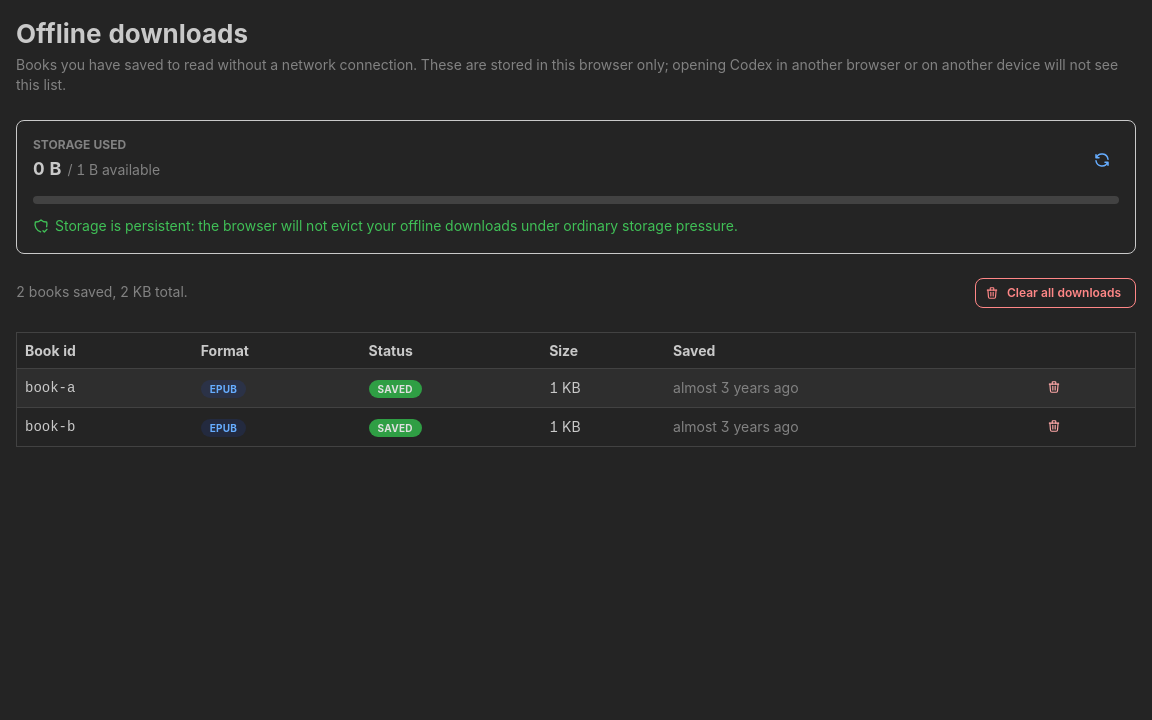
Test: DownloadsSettings: clear-all flow › Clear all asks for confirmation and then removes every record
Click the button "Clear all downloads" at (1055, 293), box [975,278,1136,308]
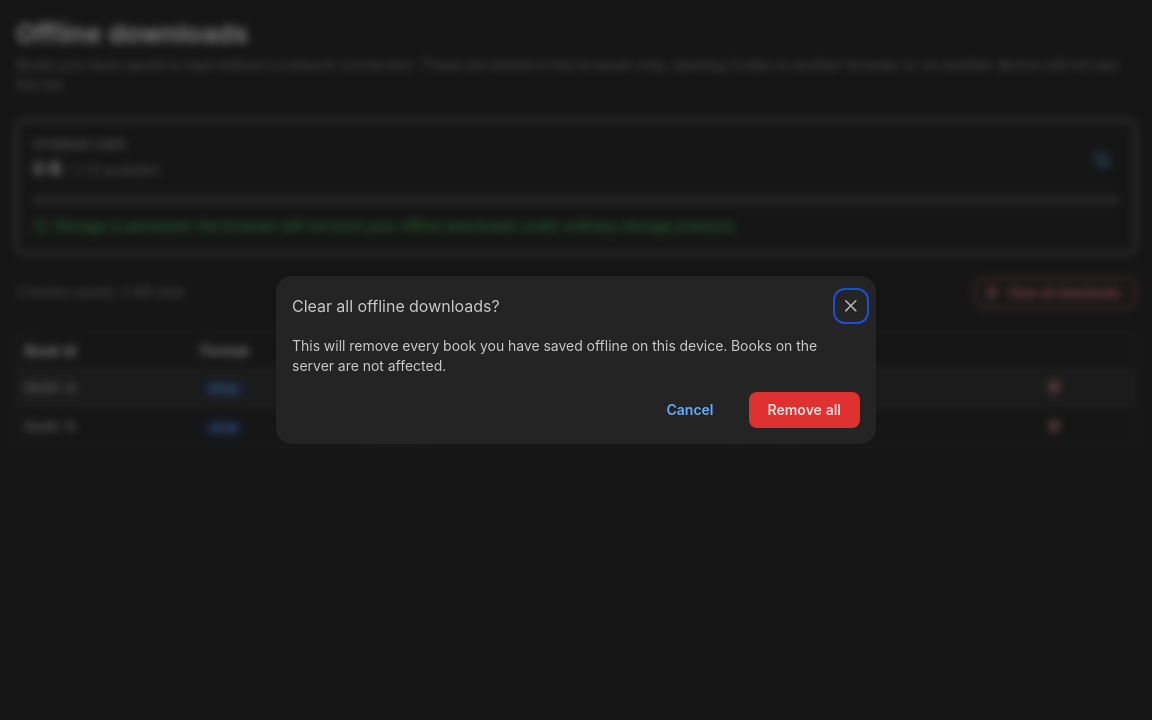
Click the button "Remove all" at (804, 410), box [748,392,860,428]
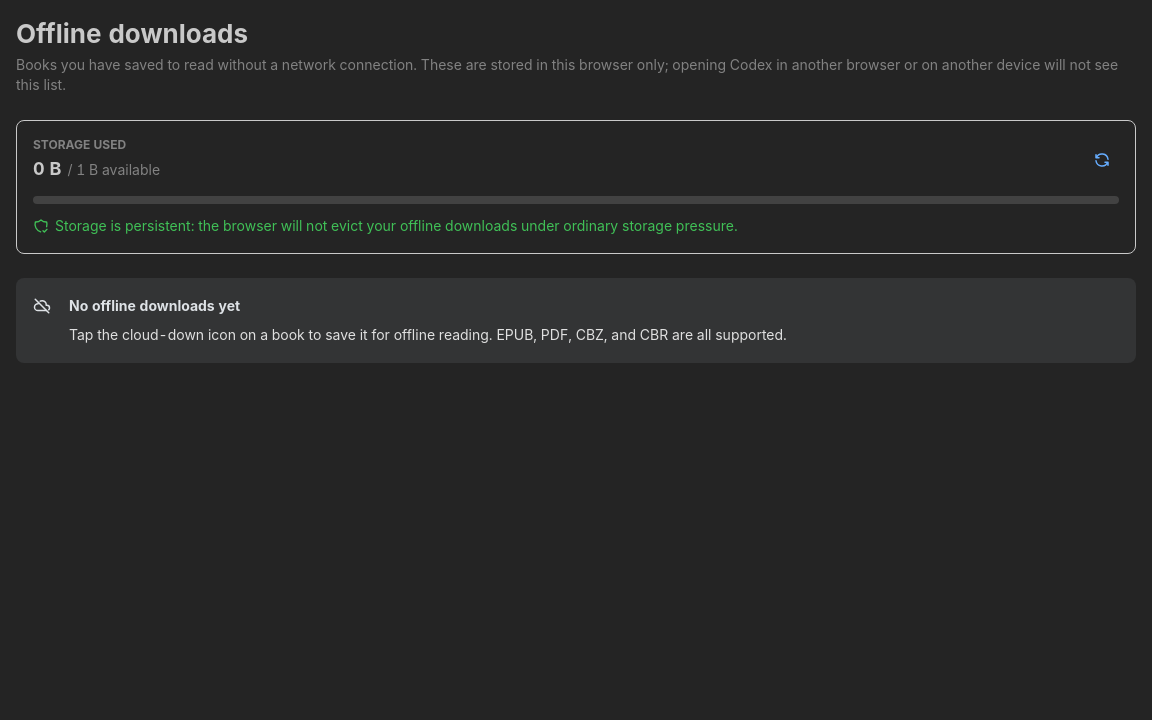
Expected: the text "book-a" is not shown
Result: the text "No offline downloads yet" is shown at [69,295,240,316]
